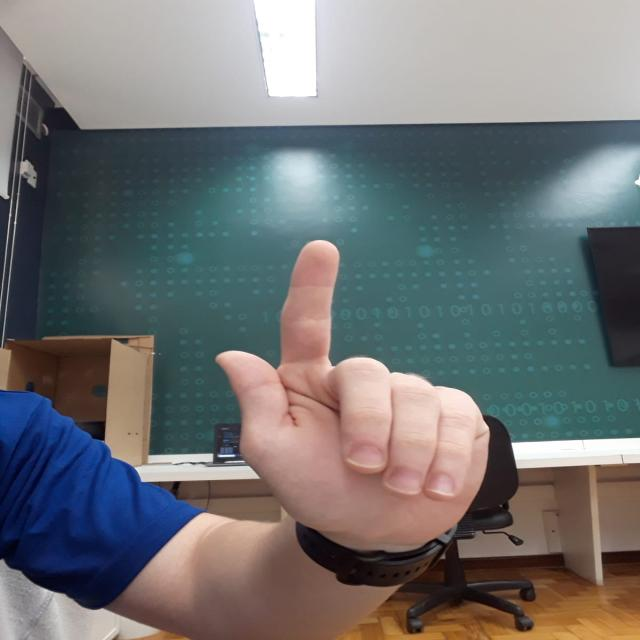G: (210, 232, 490, 538)
